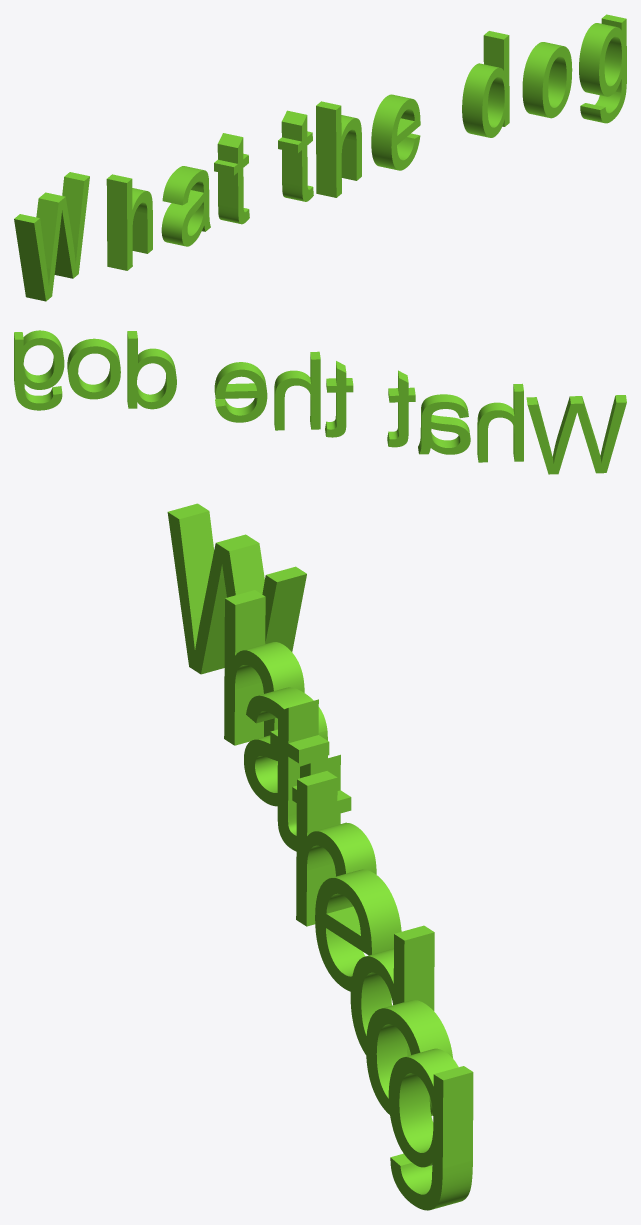
File: what the dog.fbx
The picture shows the model from 3 angles, top to bottom: view 1: azimuth 30°, elevation 25°; view 2: azimuth 150°, elevation 25°; view 3: azimuth 270°, elevation 25°; orthographic projection. The views are drawn at different scales.
Parts seen in each view (by area): view 1: TextPlus001; view 2: TextPlus001; view 3: TextPlus001.
Boxes of the visible parts, box(x1,y1,x2,y2) form: TextPlus001: box(14, 14, 626, 301); TextPlus001: box(14, 330, 626, 474); TextPlus001: box(167, 503, 473, 1210).
Size of the model in its own units: 132 by 20.72 by 31.61.
